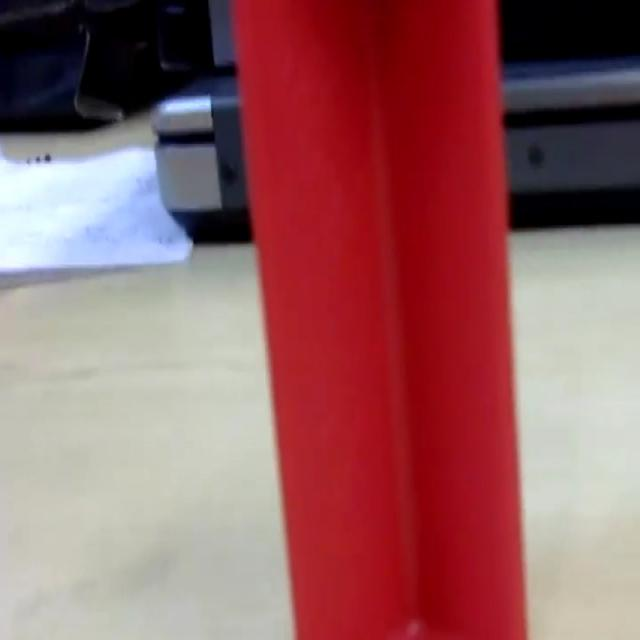red_block: (229, 0, 530, 636)
